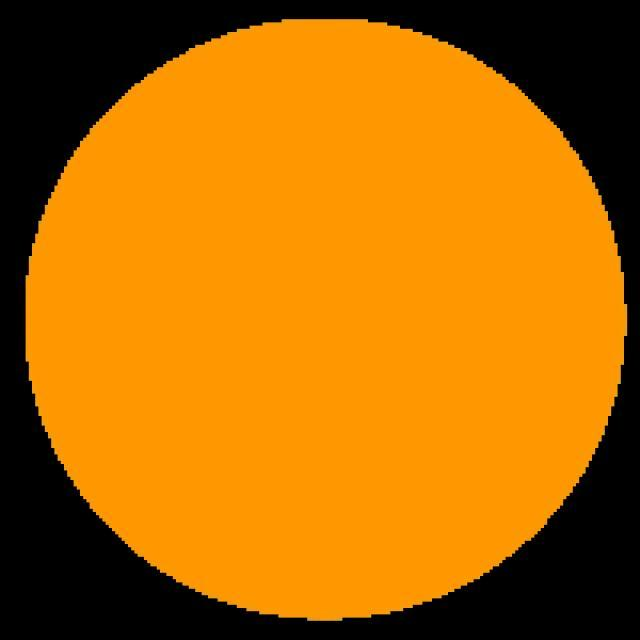Circle: (26, 19, 624, 618)
